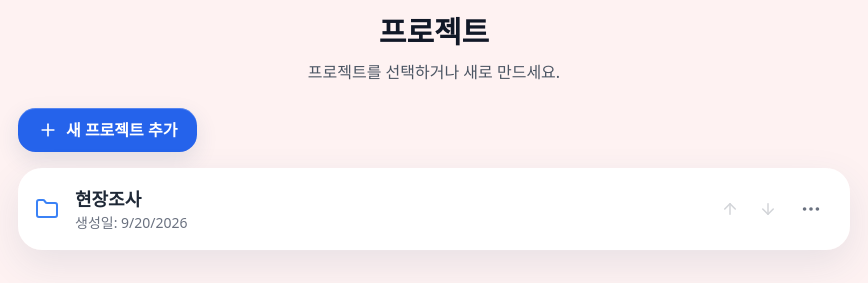
Test: toggles project actions with the more button
Step 1. Click the button named "현장조사 작업 메뉴" → (811, 209), box 789,187 -> 833,231
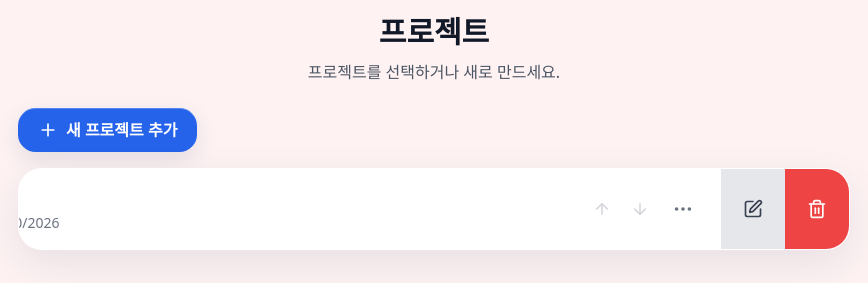
Expected: the button named "현장조사 작업 메뉴" is expanded
Step 2. Click the button named "현장조사 작업 메뉴" → (683, 209), box 661,187 -> 705,231
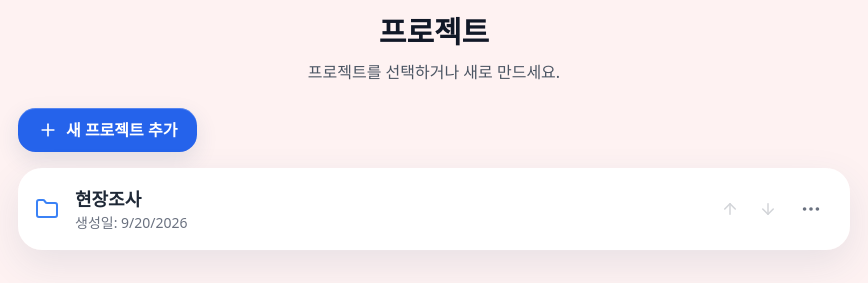
Expected: the button named "현장조사 작업 메뉴" is collapsed, 789,187 -> 833,231
